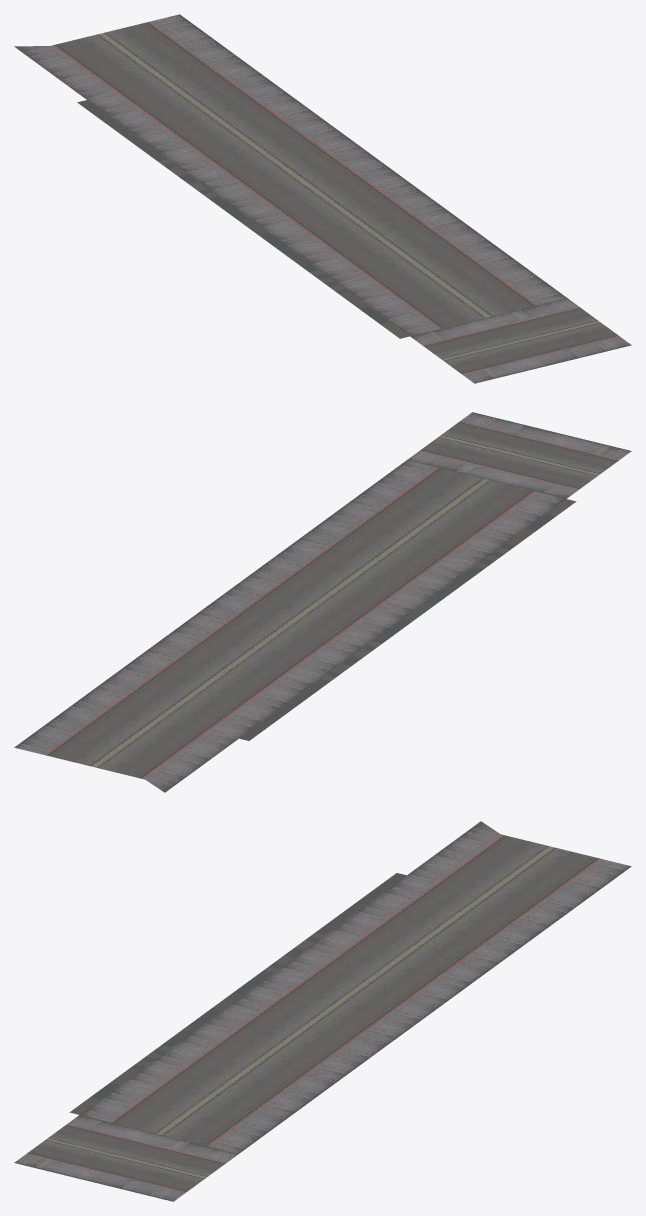
File: lodroadssfse52.obj
3 views of the same model, one above another, from view 1: azimuth 30°, elevation 25°; view 2: azimuth 150°, elevation 25°; view 3: azimuth 330°, elevation 25° (orthographic).
Parts seen in each view (by area): view 1: LODroadsSFSE52; view 2: LODroadsSFSE52; view 3: LODroadsSFSE52.
Part boxes in pixels (x1,y1,x2,y2): LODroadsSFSE52: (14, 14, 631, 383); LODroadsSFSE52: (14, 412, 631, 792); LODroadsSFSE52: (14, 821, 631, 1201).
Size of the model in its own units: 29.93 by 7e-06 by 143.
Materials: 1 (1 with a texture image).
